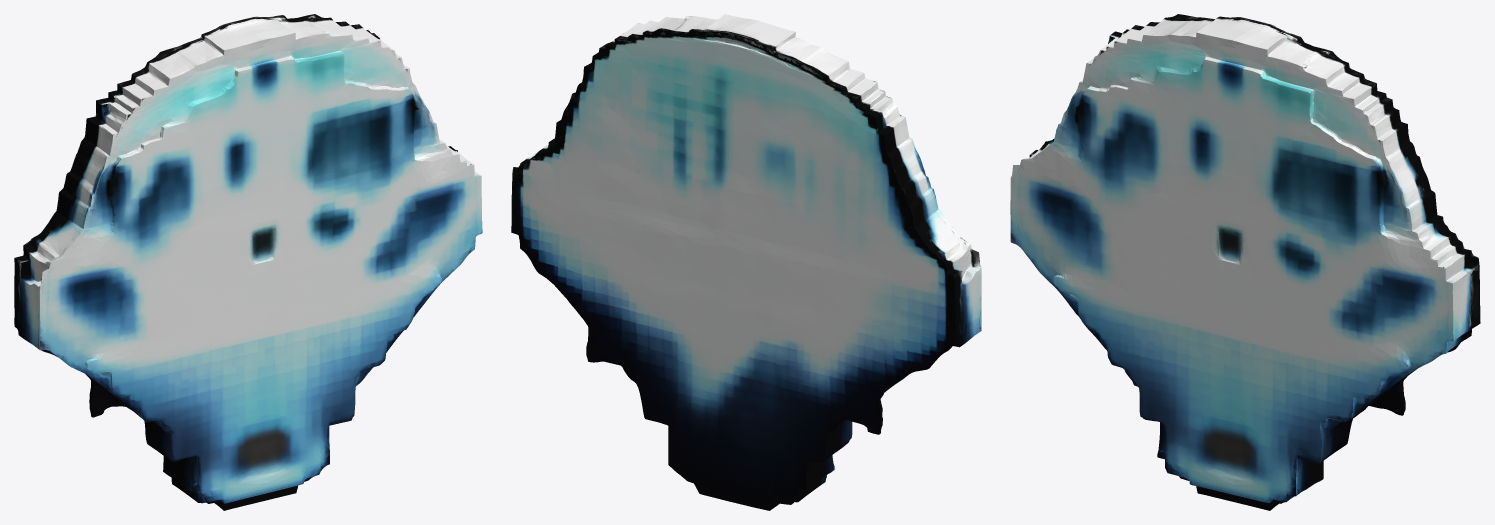
The model's file is env-crystal-arch-b.glb.
The picture shows the model from 3 angles, left to right: view 1: azimuth 30°, elevation 25°; view 2: azimuth 150°, elevation 25°; view 3: azimuth 330°, elevation 25°; orthographic projection.
Visible parts, largest first — view 1: world; view 2: world; view 3: world.
Part boxes in pixels (<box>): world: <box>14,14,482,510</box>; world: <box>511,14,981,510</box>; world: <box>1010,14,1480,510</box>.
Bounding box in the file's own units: 0.9974 × 0.9998 × 0.1107.
Materials: 1 (1 with a texture image).
